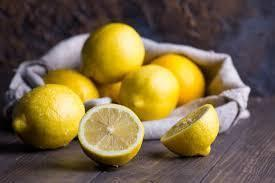lemon: (10, 84, 85, 148), (78, 104, 144, 166), (80, 22, 145, 83), (119, 64, 179, 121), (160, 104, 220, 157), (150, 54, 205, 106), (42, 68, 99, 104)
